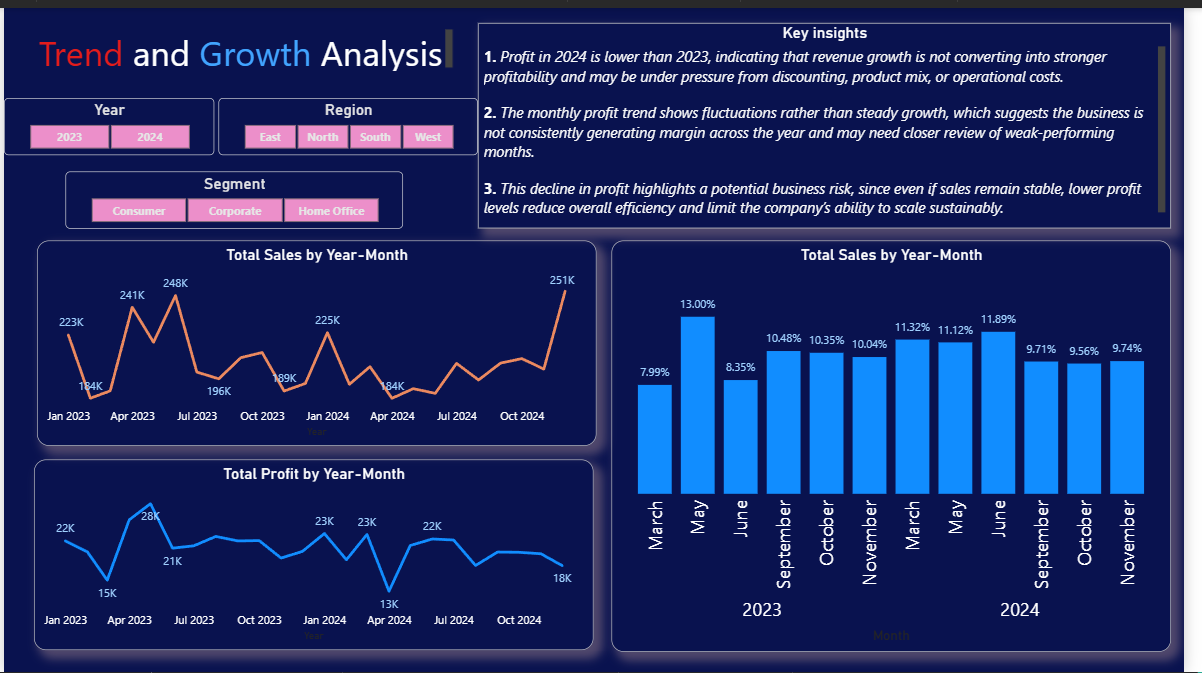

What the dashboard file says about the page in this screenshot:
{"tool":"powerbi","page":{"name":"Trend and Growth analysis","canvas":[1280,720],"ordinal":1},"visuals":[{"type":"textbox","box":[32.5,17.9,458.7,55.3],"z":0},{"type":"lineChart","title":"Total Sales by Year-Month","fields":{"Y":["retail_sales_analysis.Total Sales"],"Category":["retail_sales_analysis.Order_Date.Variation.Date Hierarchy.Year","retail_sales_analysis.Order_Date.Variation.Date Hierarchy.Month"]},"box":[35.8,252.1,606.7,222.8],"z":1000},{"type":"lineChart","title":"Total Profit by Year-Month","fields":{"Category":["retail_sales_analysis.Order_Date.Variation.Date Hierarchy.Year","retail_sales_analysis.Order_Date.Variation.Date Hierarchy.Month"],"Y":["retail_sales_analysis.Total Profit"]},"box":[32.5,489.6,606.7,206.6],"z":2000},{"type":"clusteredColumnChart","title":"Total Sales by Year-Month","fields":{"Category":["retail_sales_analysis.Order_Date.Variation.Date Hierarchy.Year","retail_sales_analysis.Order_Date.Variation.Date Hierarchy.Month"],"Y":["retail_sales_analysis.Profit Margin %"]},"box":[658.8,252.1,606.7,445.7],"z":3000},{"type":"textbox","title":"Key insights","box":[514,16.3,751.5,222.8],"z":4000},{"type":"slicer","title":"Year","fields":{"Values":["retail_sales_analysis.order_year"]},"box":[0,97.6,227.7,61.8],"z":5000},{"type":"slicer","title":"Region","fields":{"Values":["retail_sales_analysis.Region"]},"box":[232.6,97.6,281.4,61.8],"z":6000},{"type":"slicer","title":"Segment","fields":{"Values":["retail_sales_analysis.Segment"]},"box":[66.7,177.3,366,61.8],"z":7000}]}

Visuals, with their boxes in screenshot pixels (x1, y1, x2, y2), scaled from the page's 1280x720 canvas onto the 1202x673 screenshot:
textbox: 31:17:461:68
"Total Sales by Year-Month" lineChart: 34:236:603:444
"Total Profit by Year-Month" lineChart: 31:458:600:651
"Total Sales by Year-Month" clusteredColumnChart: 619:236:1188:652
"Key insights" textbox: 483:15:1188:223
"Year" slicer: 0:91:214:149
"Region" slicer: 218:91:483:149
"Segment" slicer: 63:166:406:223
